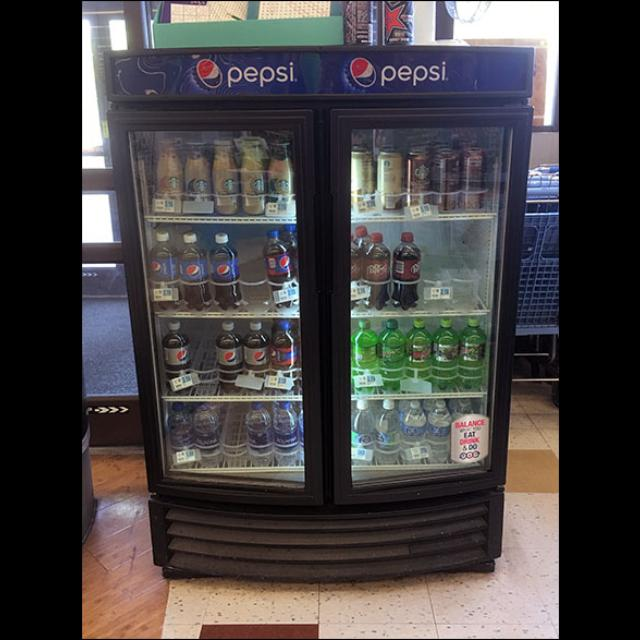Cooling-Display: (101, 27, 529, 595)
